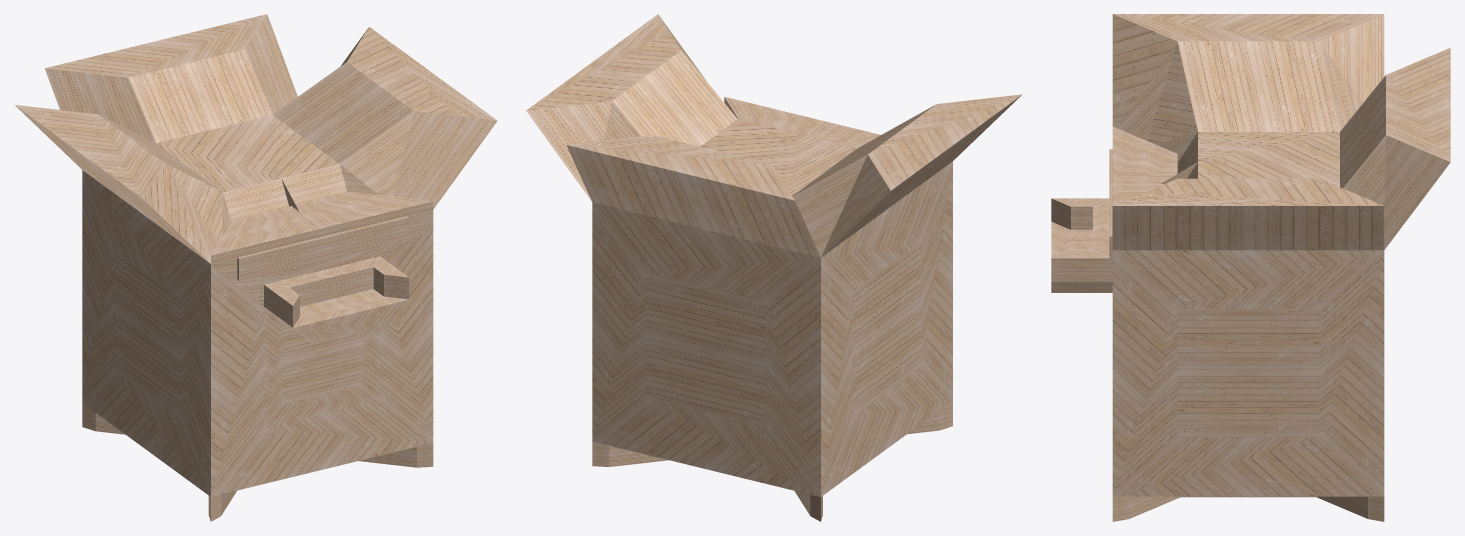
The model's file is tahtakup.obj.
The picture shows the model from 3 angles, left to right: view 1: azimuth 30°, elevation 25°; view 2: azimuth 150°, elevation 25°; view 3: azimuth 270°, elevation 25°; orthographic projection. The views are drawn at different scales.
Visible parts, largest first — view 1: Cube; view 2: Cube; view 3: Cube.
Part boxes in pixels (x1=…): Cube: x1=15, y1=14, x2=497, y2=521; Cube: x1=526, y1=14, x2=1022, y2=521; Cube: x1=1051, y1=14, x2=1450, y2=521.
Bounding box in the file's own units: 3.19 × 2.92 × 2.94.
1 material, 1 textured.
